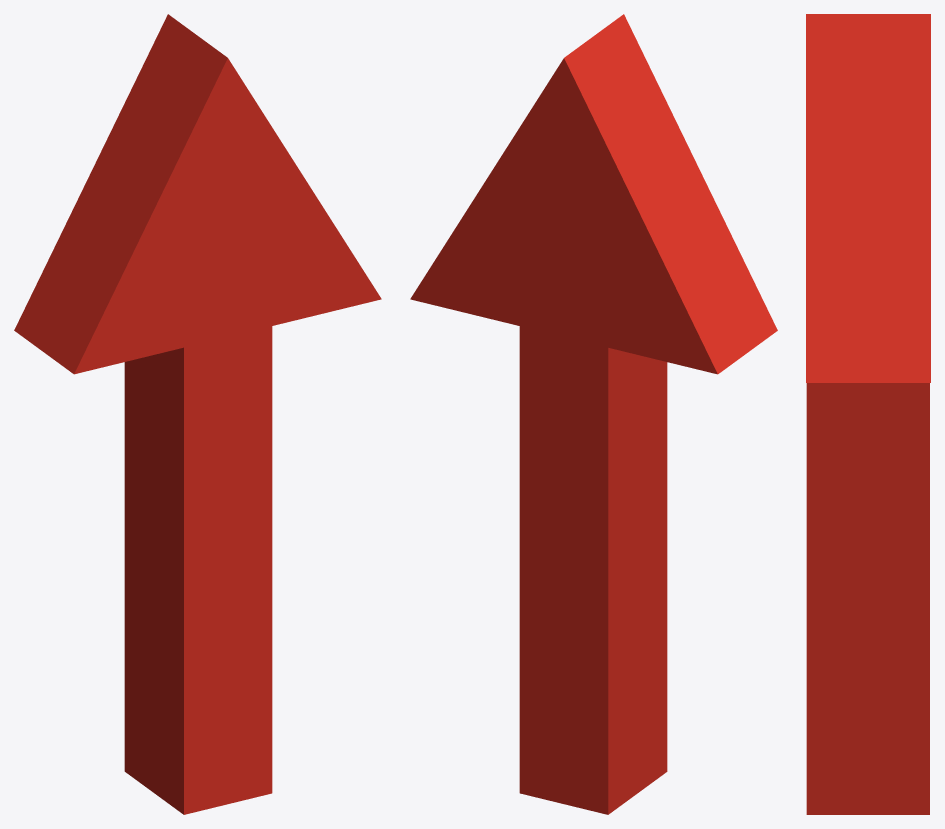
File: red-arrow.glb
The picture shows the model from 3 angles, left to right: view 1: azimuth 30°, elevation 25°; view 2: azimuth 150°, elevation 25°; view 3: azimuth 270°, elevation 25°; orthographic projection. The views are drawn at different scales.
Visible parts, largest first — view 1: Arrow; view 2: Arrow; view 3: Arrow.
Part boxes in pixels (x1,y1,x2,y2): Arrow: [14, 14, 381, 814]; Arrow: [410, 14, 777, 814]; Arrow: [806, 14, 930, 814].
Size of the model in its own units: 0.2085 by 0.4832 by 0.0703.
